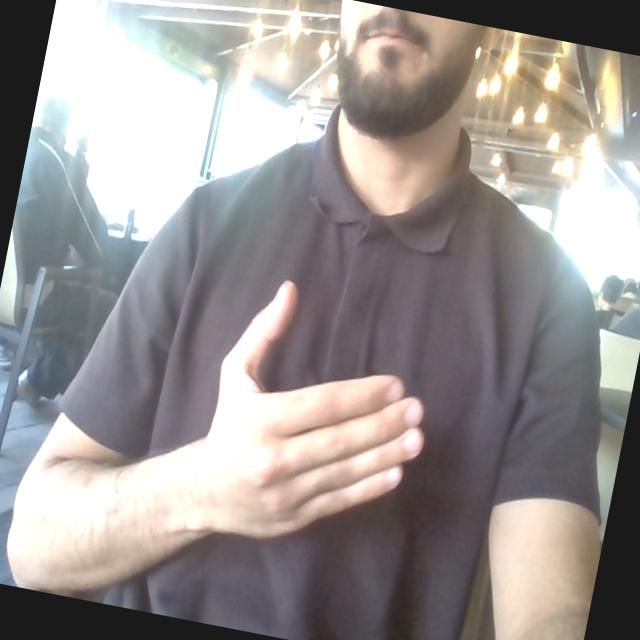Hand: (197, 283, 422, 537)
